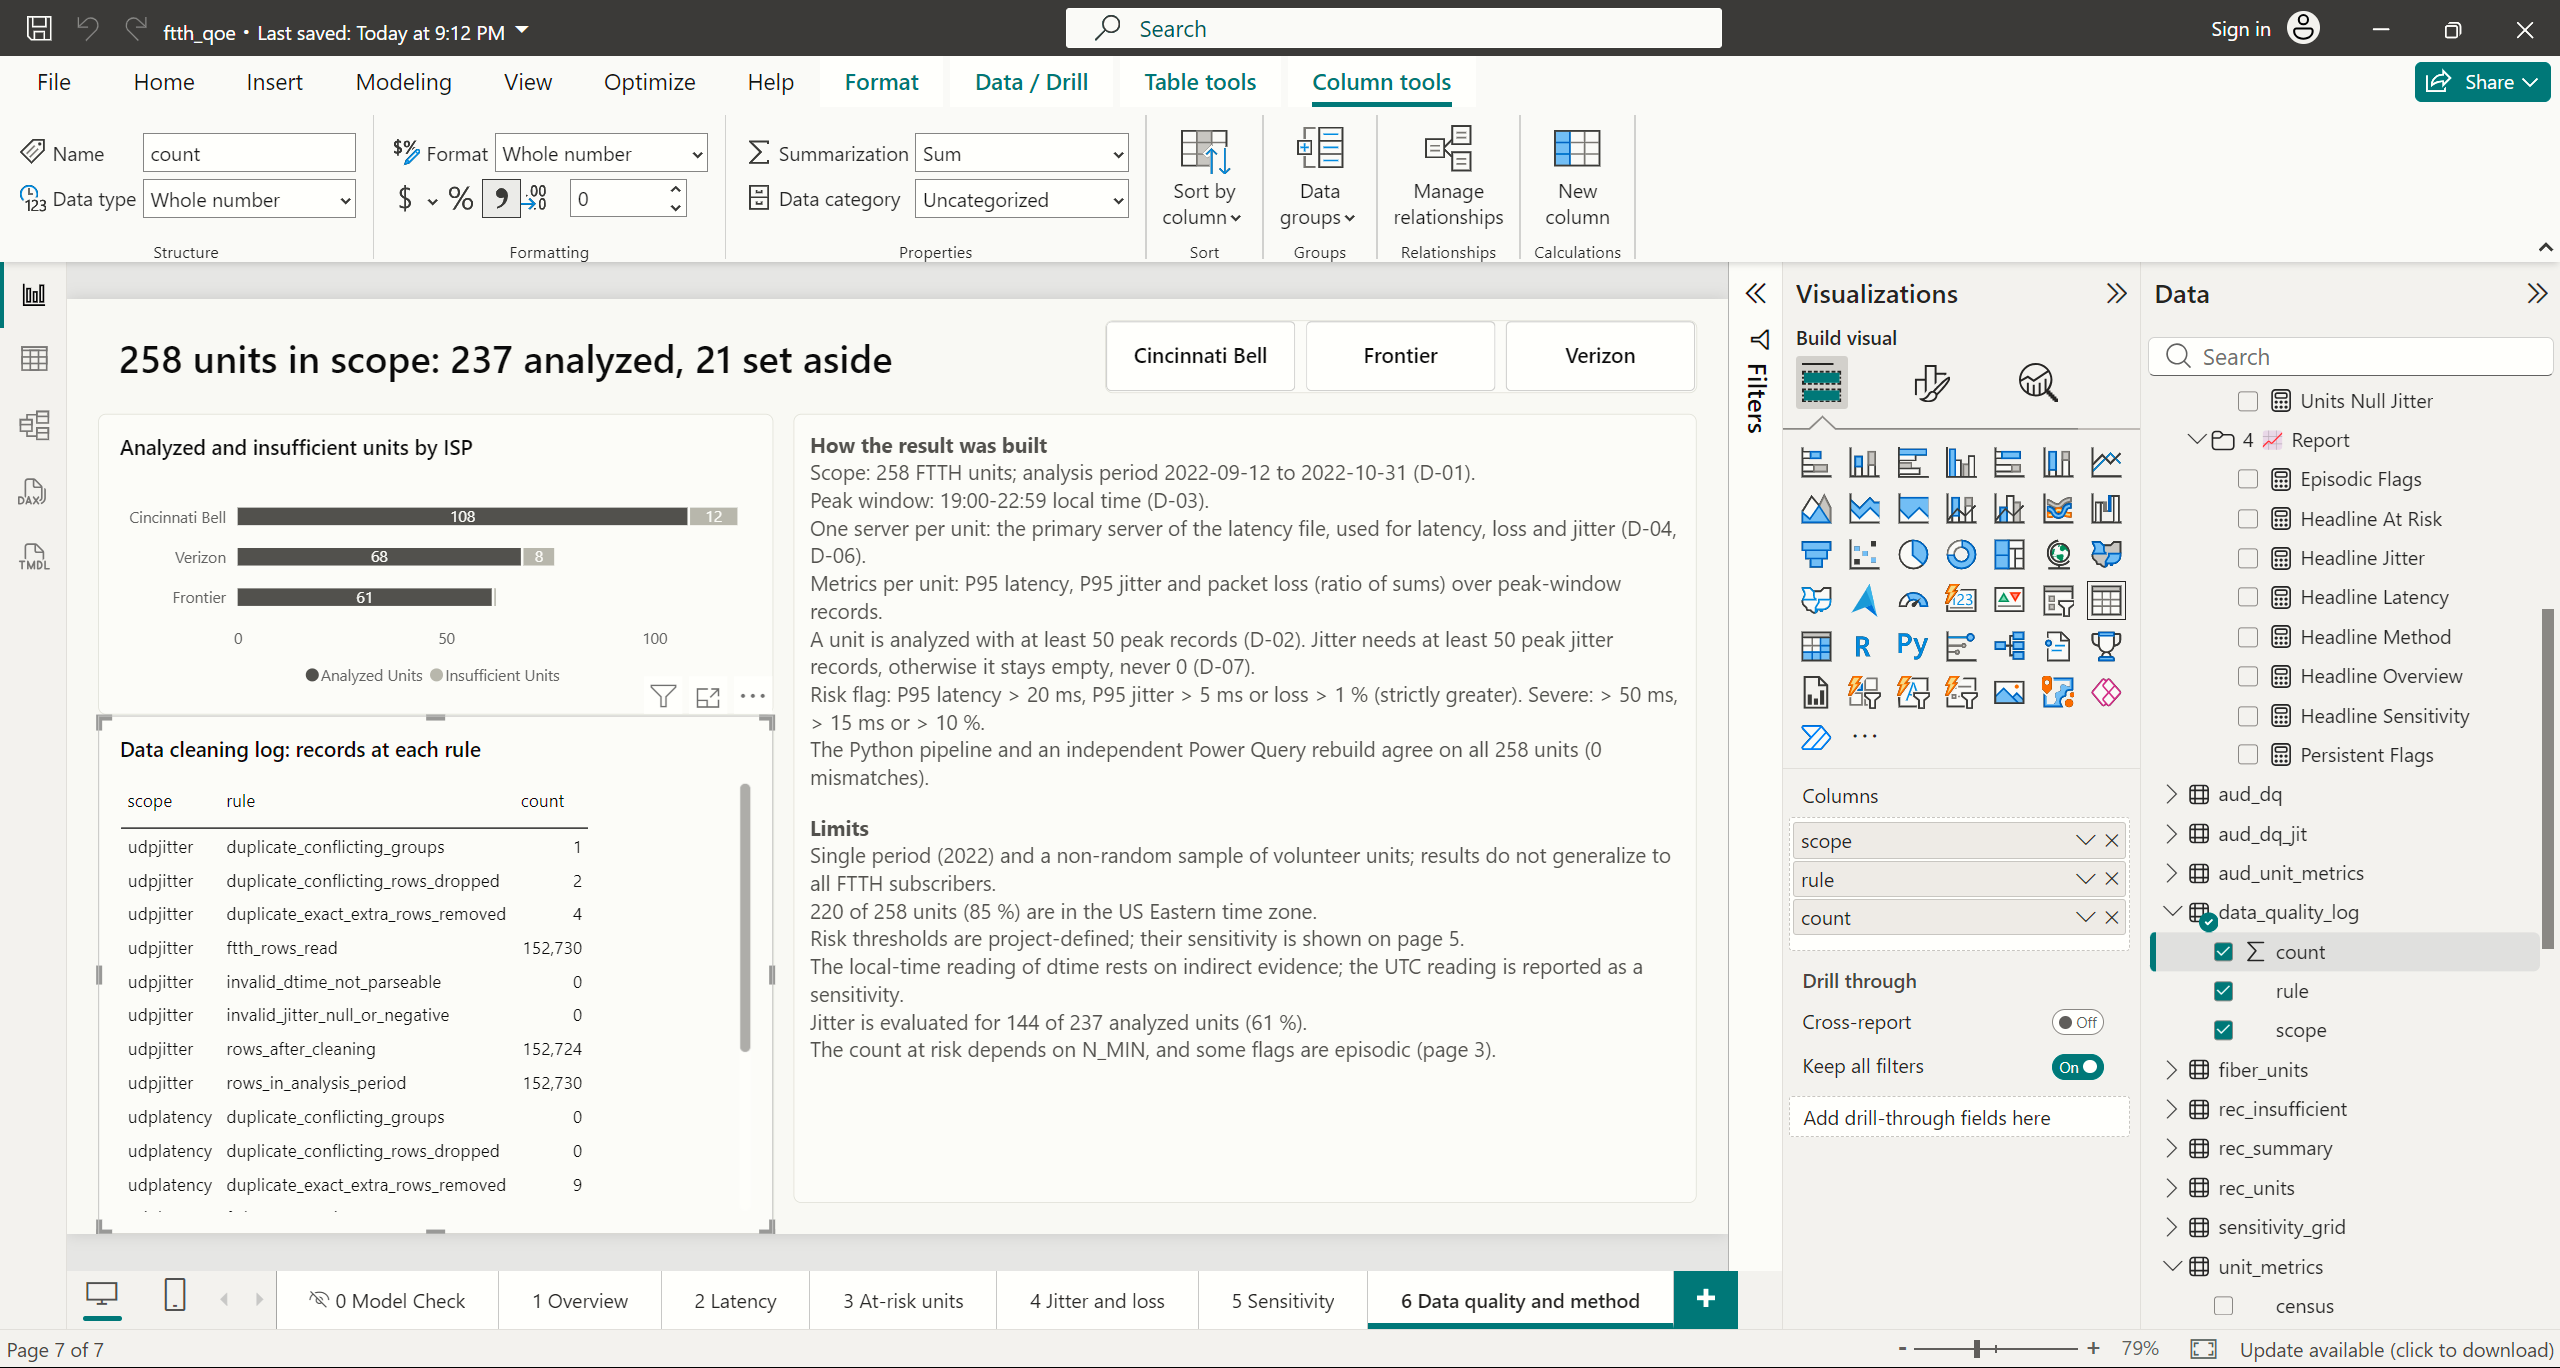

This screenshot's page, from the dashboard's own definition file:
{"tool":"powerbi","page":{"name":"6 Data quality and method","canvas":[1280,720],"ordinal":6},"visuals":[{"type":"cardVisual","fields":{"Data":["_Measures.Headline Method"]},"box":[24,16,760,56],"z":0},{"type":"advancedSlicerVisual","fields":{"Values":["unit_metrics.isp"]},"box":[800,16,456,56],"z":1},{"type":"barChart","title":"Analyzed and insufficient units by ISP","fields":{"Category":["unit_metrics.isp"],"Y":["_Measures.Analyzed Units","_Measures.Insufficient Units"]},"box":[23.8,81.2,520,213.8],"z":2},{"type":"tableEx","title":"Data cleaning log (all ISPs): records at each rule","fields":{"Values":["data_quality_log.scope","data_quality_log.rule","data_quality_log.count"]},"box":[23.8,295,521.2,425],"z":3},{"type":"textbox","box":[560,81.2,696.2,615],"z":4}]}

Visuals, with their boxes on the page's 1280x720 design canvas (x1, y1, x2, y2). These are canvas units, not pixel positions in the 2560x1368 screenshot, which may show the page scaled, cropped or inside an application window:
cardVisual - _Measures.Headline Method: 24,16,784,72
advancedSlicerVisual - unit_metrics.isp: 800,16,1256,72
"Analyzed and insufficient units by ISP" barChart: 24,81,544,295
"Data cleaning log (all ISPs): records at each rule" tableEx: 24,295,545,720
textbox: 560,81,1256,696
